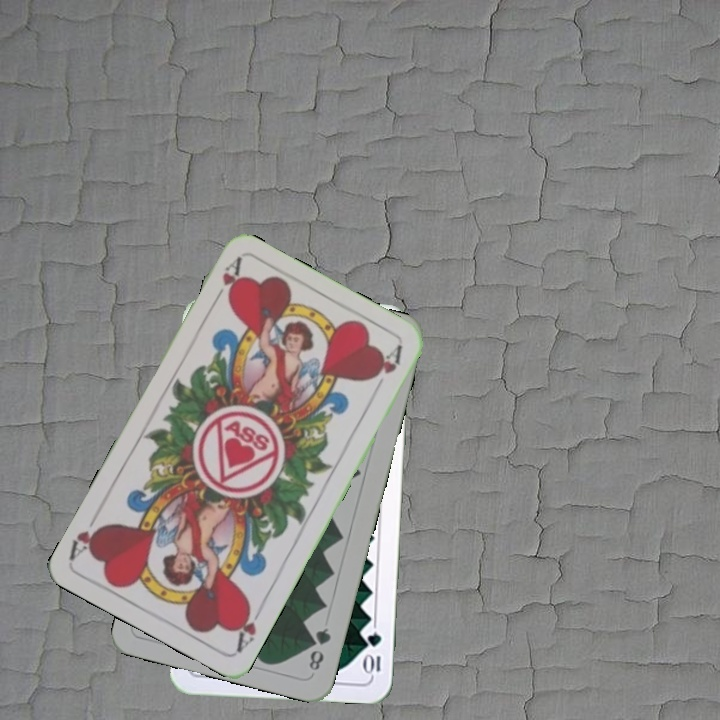G10: (363, 628, 384, 678)
G8: (305, 623, 334, 674)
HA: (230, 598, 267, 655), (207, 255, 244, 309)
